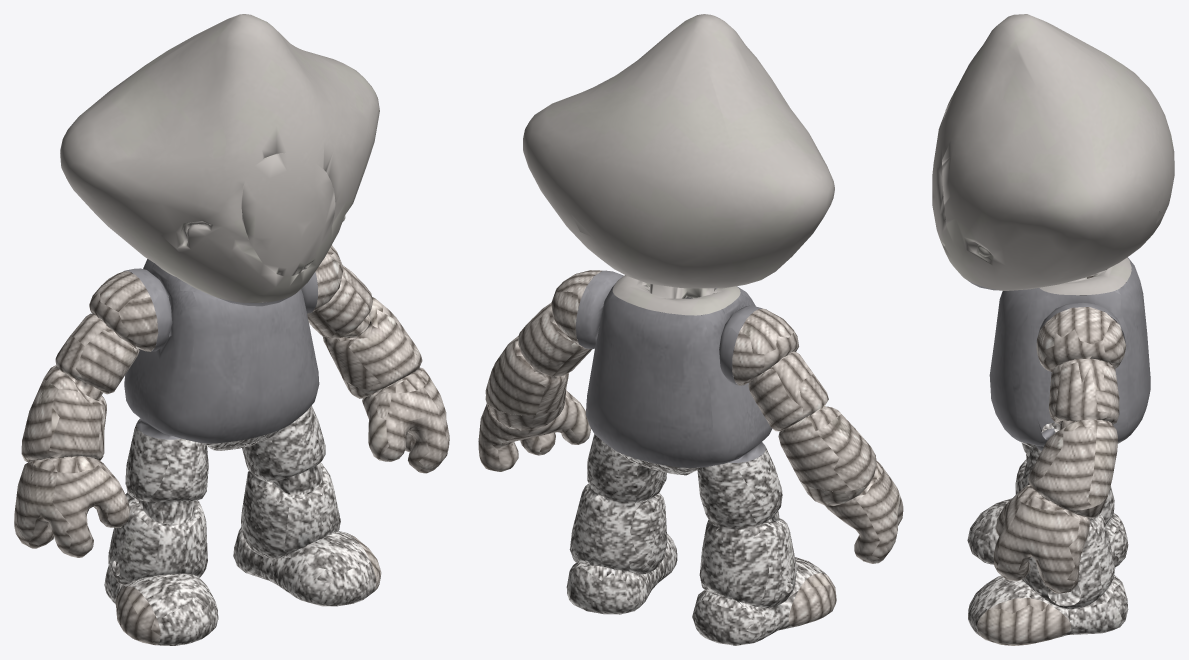
File: 08-shard-asym--stylized_action_figure_3d_model.glb
3 views of the same model, side by side, from view 1: azimuth 30°, elevation 25°; view 2: azimuth 150°, elevation 25°; view 3: azimuth 270°, elevation 25° (orthographic). The views are drawn at different scales.
Visible parts, largest first — view 1: head_mesh, arms_mesh, feet_mesh, body_mesh; view 2: head_mesh, arms_mesh, feet_mesh, body_mesh; view 3: head_mesh, arms_mesh, body_mesh, feet_mesh.
Boxes of the visible parts, box(x1,y1,x2,y2) form: head_mesh: box(60, 14, 379, 302); arms_mesh: box(14, 245, 449, 644); feet_mesh: box(104, 405, 376, 645); body_mesh: box(123, 259, 319, 443); head_mesh: box(523, 14, 834, 315); arms_mesh: box(478, 270, 903, 626); feet_mesh: box(566, 434, 826, 645); body_mesh: box(575, 270, 772, 467); head_mesh: box(932, 14, 1174, 295); arms_mesh: box(977, 276, 1126, 645); body_mesh: box(967, 257, 1150, 450); feet_mesh: box(967, 422, 1128, 638).
Size of the model in its own units: 2.25 by 3 by 1.15.
4 materials, 4 textured.
